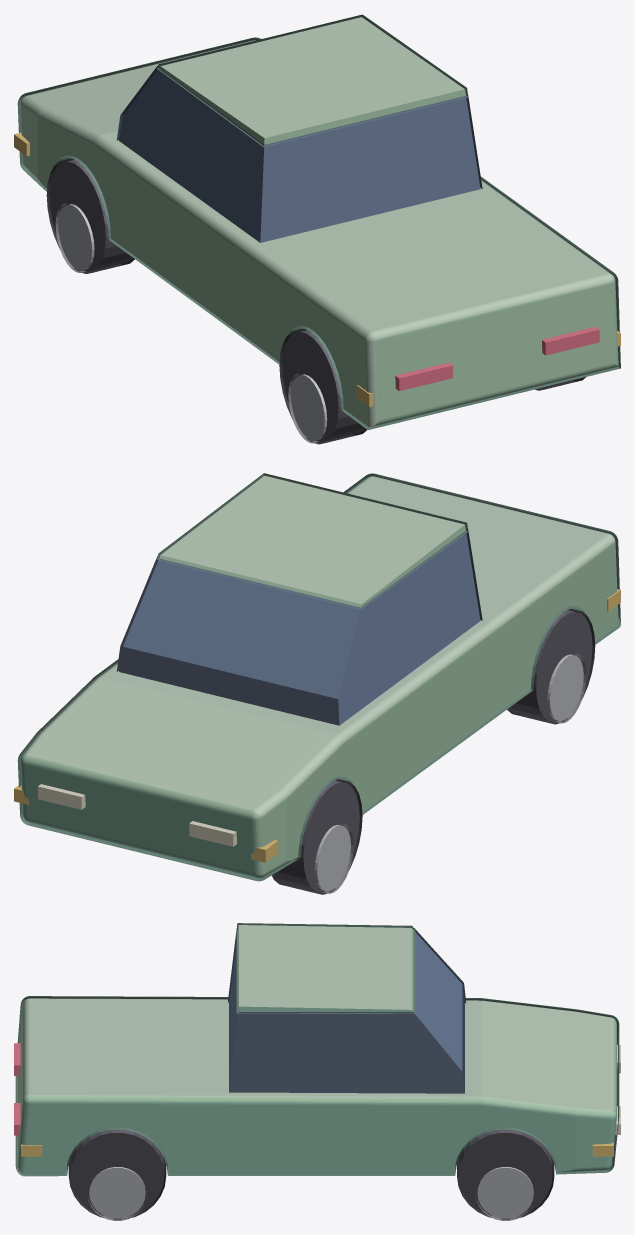
Rendered from traffic_pickup_3.glb.
The picture shows the model from 3 angles, top to bottom: view 1: azimuth 30°, elevation 25°; view 2: azimuth 150°, elevation 25°; view 3: azimuth 270°, elevation 25°; orthographic projection. The views are drawn at different scales.
Visible parts, largest first — view 1: car, blink; view 2: car, blink; view 3: car, blink.
Boxes of the visible parts, bbox=[...] form: car: bbox=[17, 14, 620, 444]; blink: bbox=[14, 132, 620, 406]; car: bbox=[17, 473, 620, 894]; blink: bbox=[14, 589, 620, 862]; car: bbox=[14, 923, 620, 1220]; blink: bbox=[21, 1142, 613, 1156].
Size of the model in its own units: 2.15 by 1.9 by 5.16.
